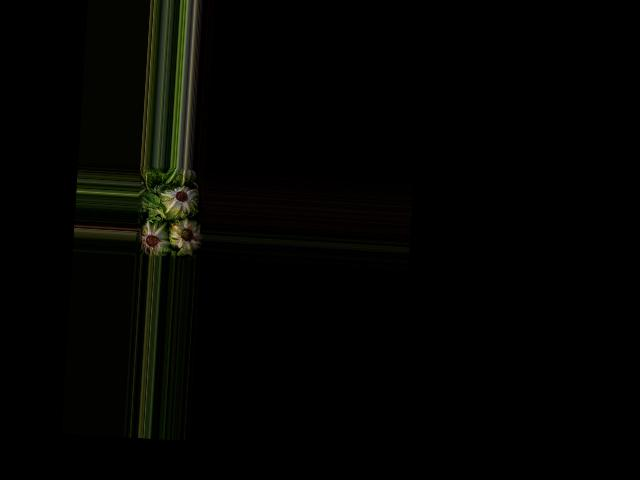lettuce: (139, 220, 171, 257)
